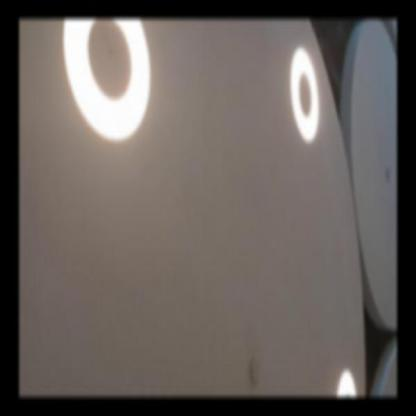light_on: (56, 19, 160, 157), (282, 30, 323, 144), (332, 350, 360, 397)
